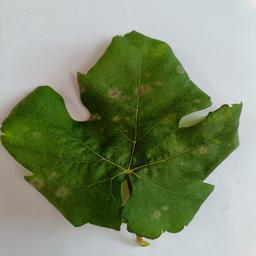Powdery-Mildew: (155, 111, 232, 166), (135, 80, 152, 97), (50, 183, 67, 200), (172, 60, 188, 77), (108, 84, 124, 101), (30, 174, 47, 190)
